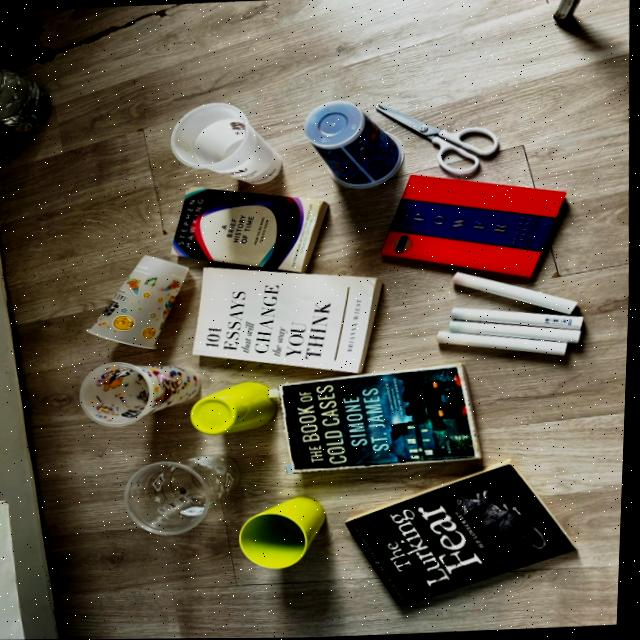Book: (350, 461, 578, 606), (282, 365, 484, 472), (195, 268, 382, 373), (383, 175, 566, 277), (174, 189, 329, 272)
HighLight Pen: (454, 273, 579, 315), (440, 332, 567, 356), (451, 321, 582, 344), (453, 308, 585, 330)
Plastic Cup: (90, 256, 189, 348), (172, 103, 283, 184), (128, 456, 240, 535), (306, 102, 403, 188), (83, 362, 203, 426), (243, 497, 329, 568)
Scissors: (377, 105, 499, 175)
WaterGlass: (193, 382, 280, 434)
